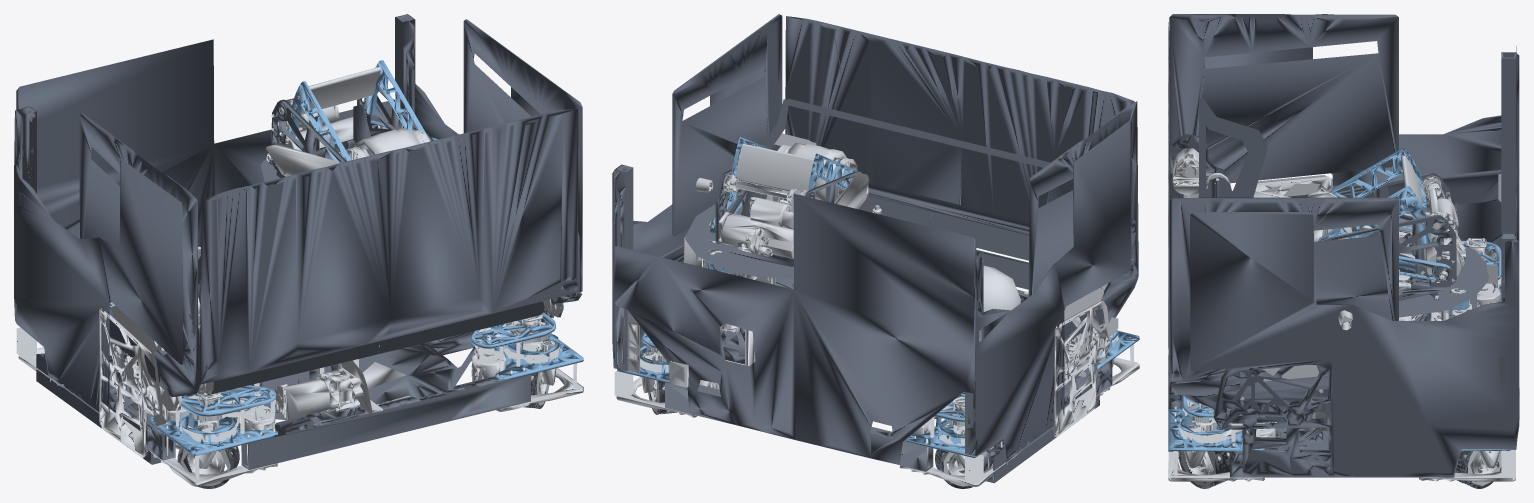
The model's file is robot-lo.glb.
3 renders of one model, left to right at view 1: azimuth 30°, elevation 25°; view 2: azimuth 150°, elevation 25°; view 3: azimuth 270°, elevation 25°, orthographic. The views are drawn at different scales.
Bounding box in the file's own units: 0.8181 × 0.599 × 0.6163.
